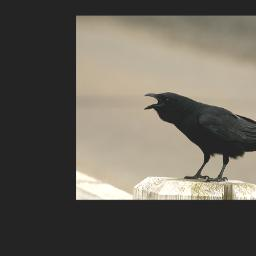Crow: (144, 92, 256, 183)
